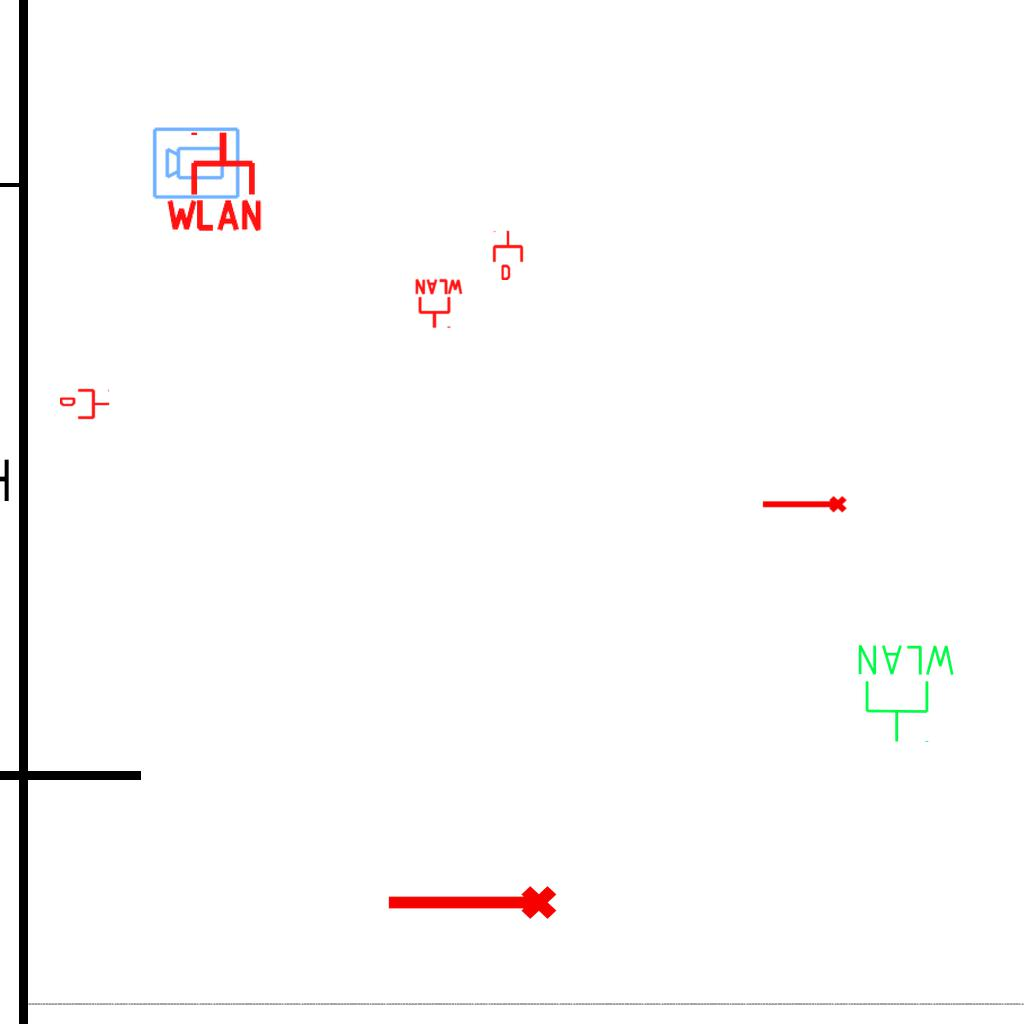ASR_Ansaugoeffnung: (383, 882, 559, 928), (760, 494, 848, 517)
Datenanschluss_einfach: (491, 230, 525, 280), (60, 387, 110, 421)
KFO_Kamera_mit_Festobjektiv: (151, 124, 242, 201)
WLAN: (854, 641, 959, 745), (162, 128, 266, 233), (413, 278, 465, 330)
